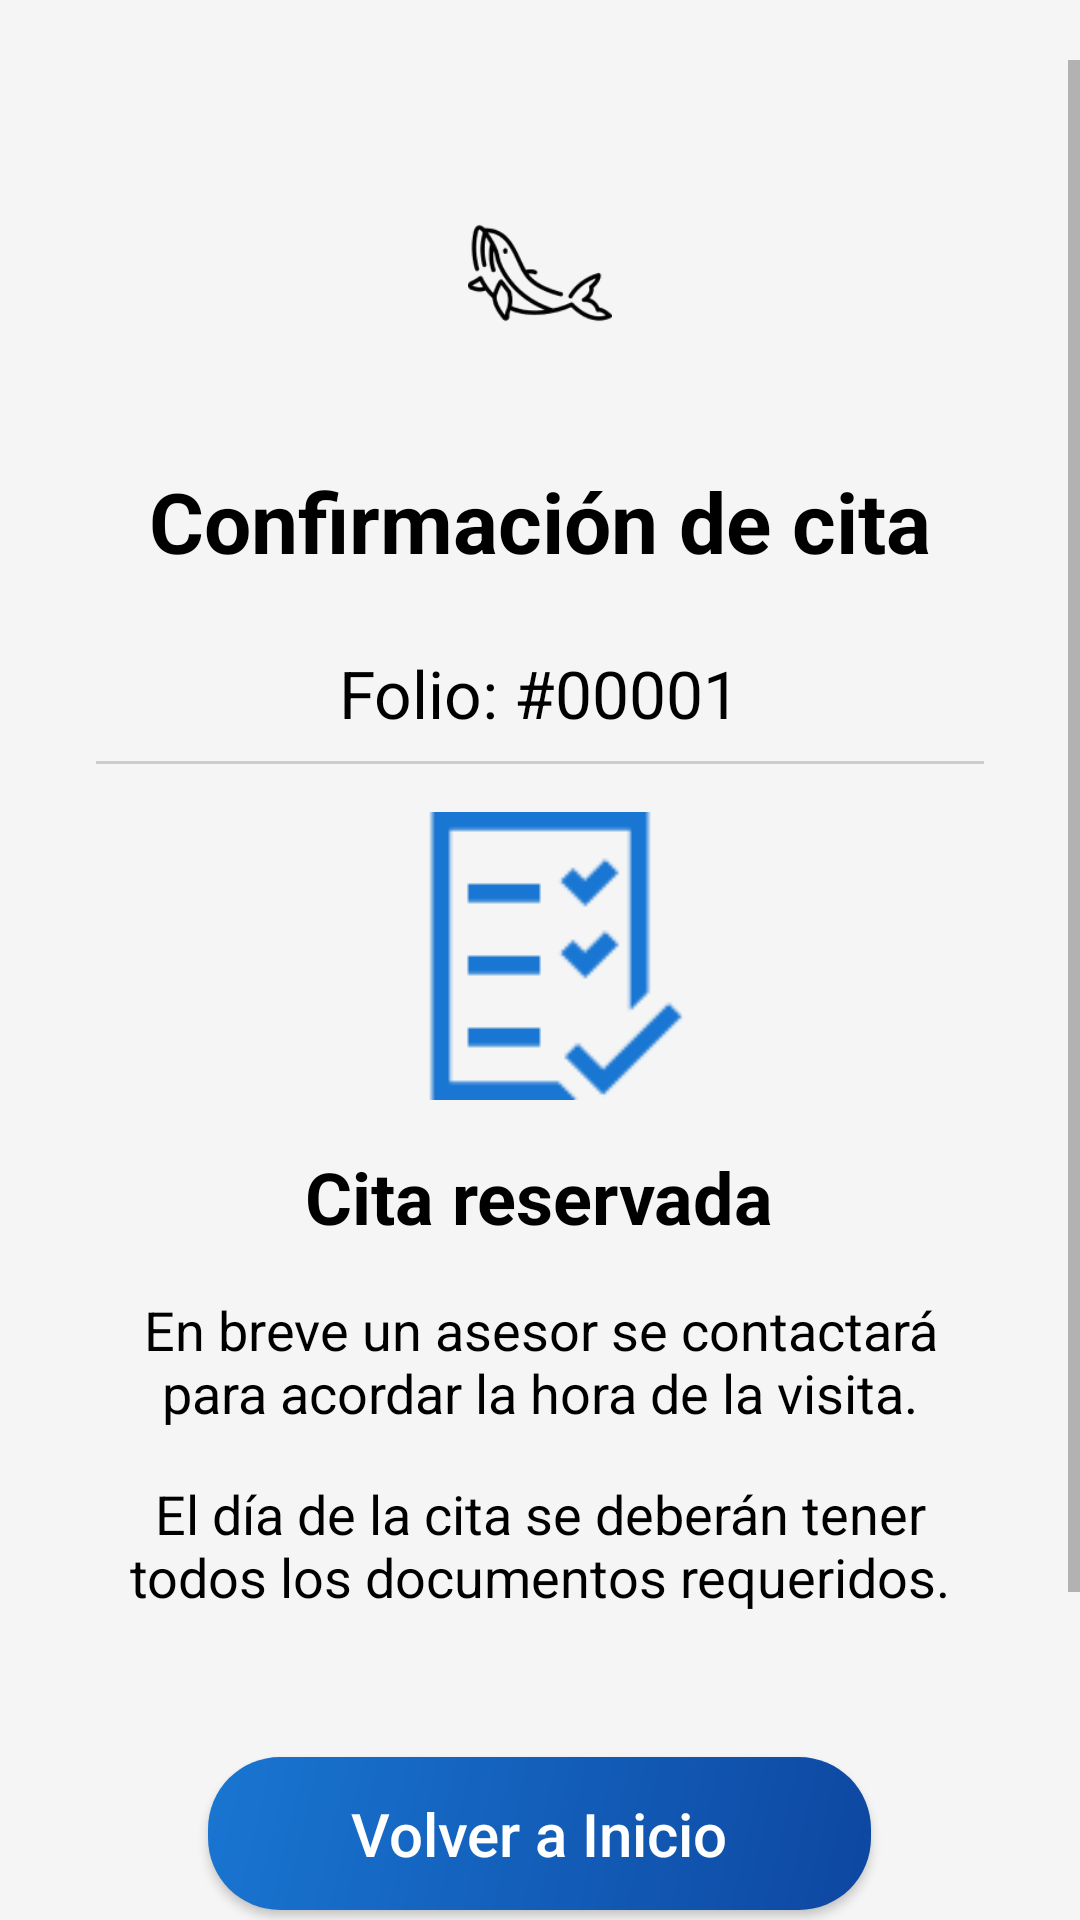

Point at icon controls on the screen. Image size 1080x1920, points as [x,y].
Checklist: [556,956]
whale: [540,273]
